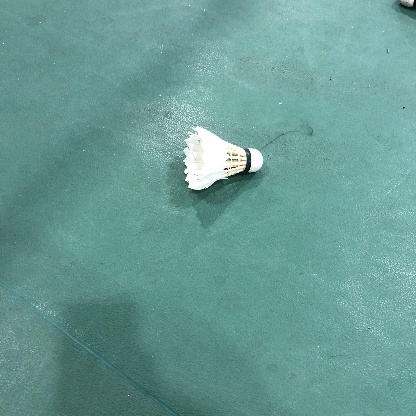ball_single: (183, 126, 263, 190)
